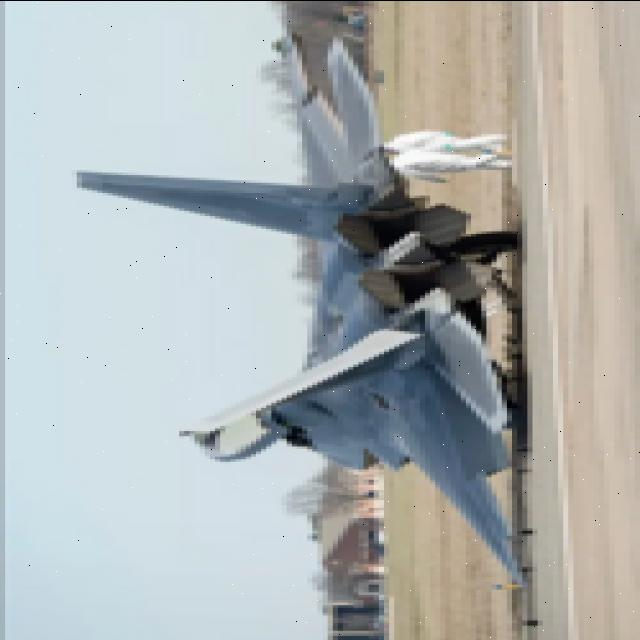F22: (52, 26, 610, 572)
